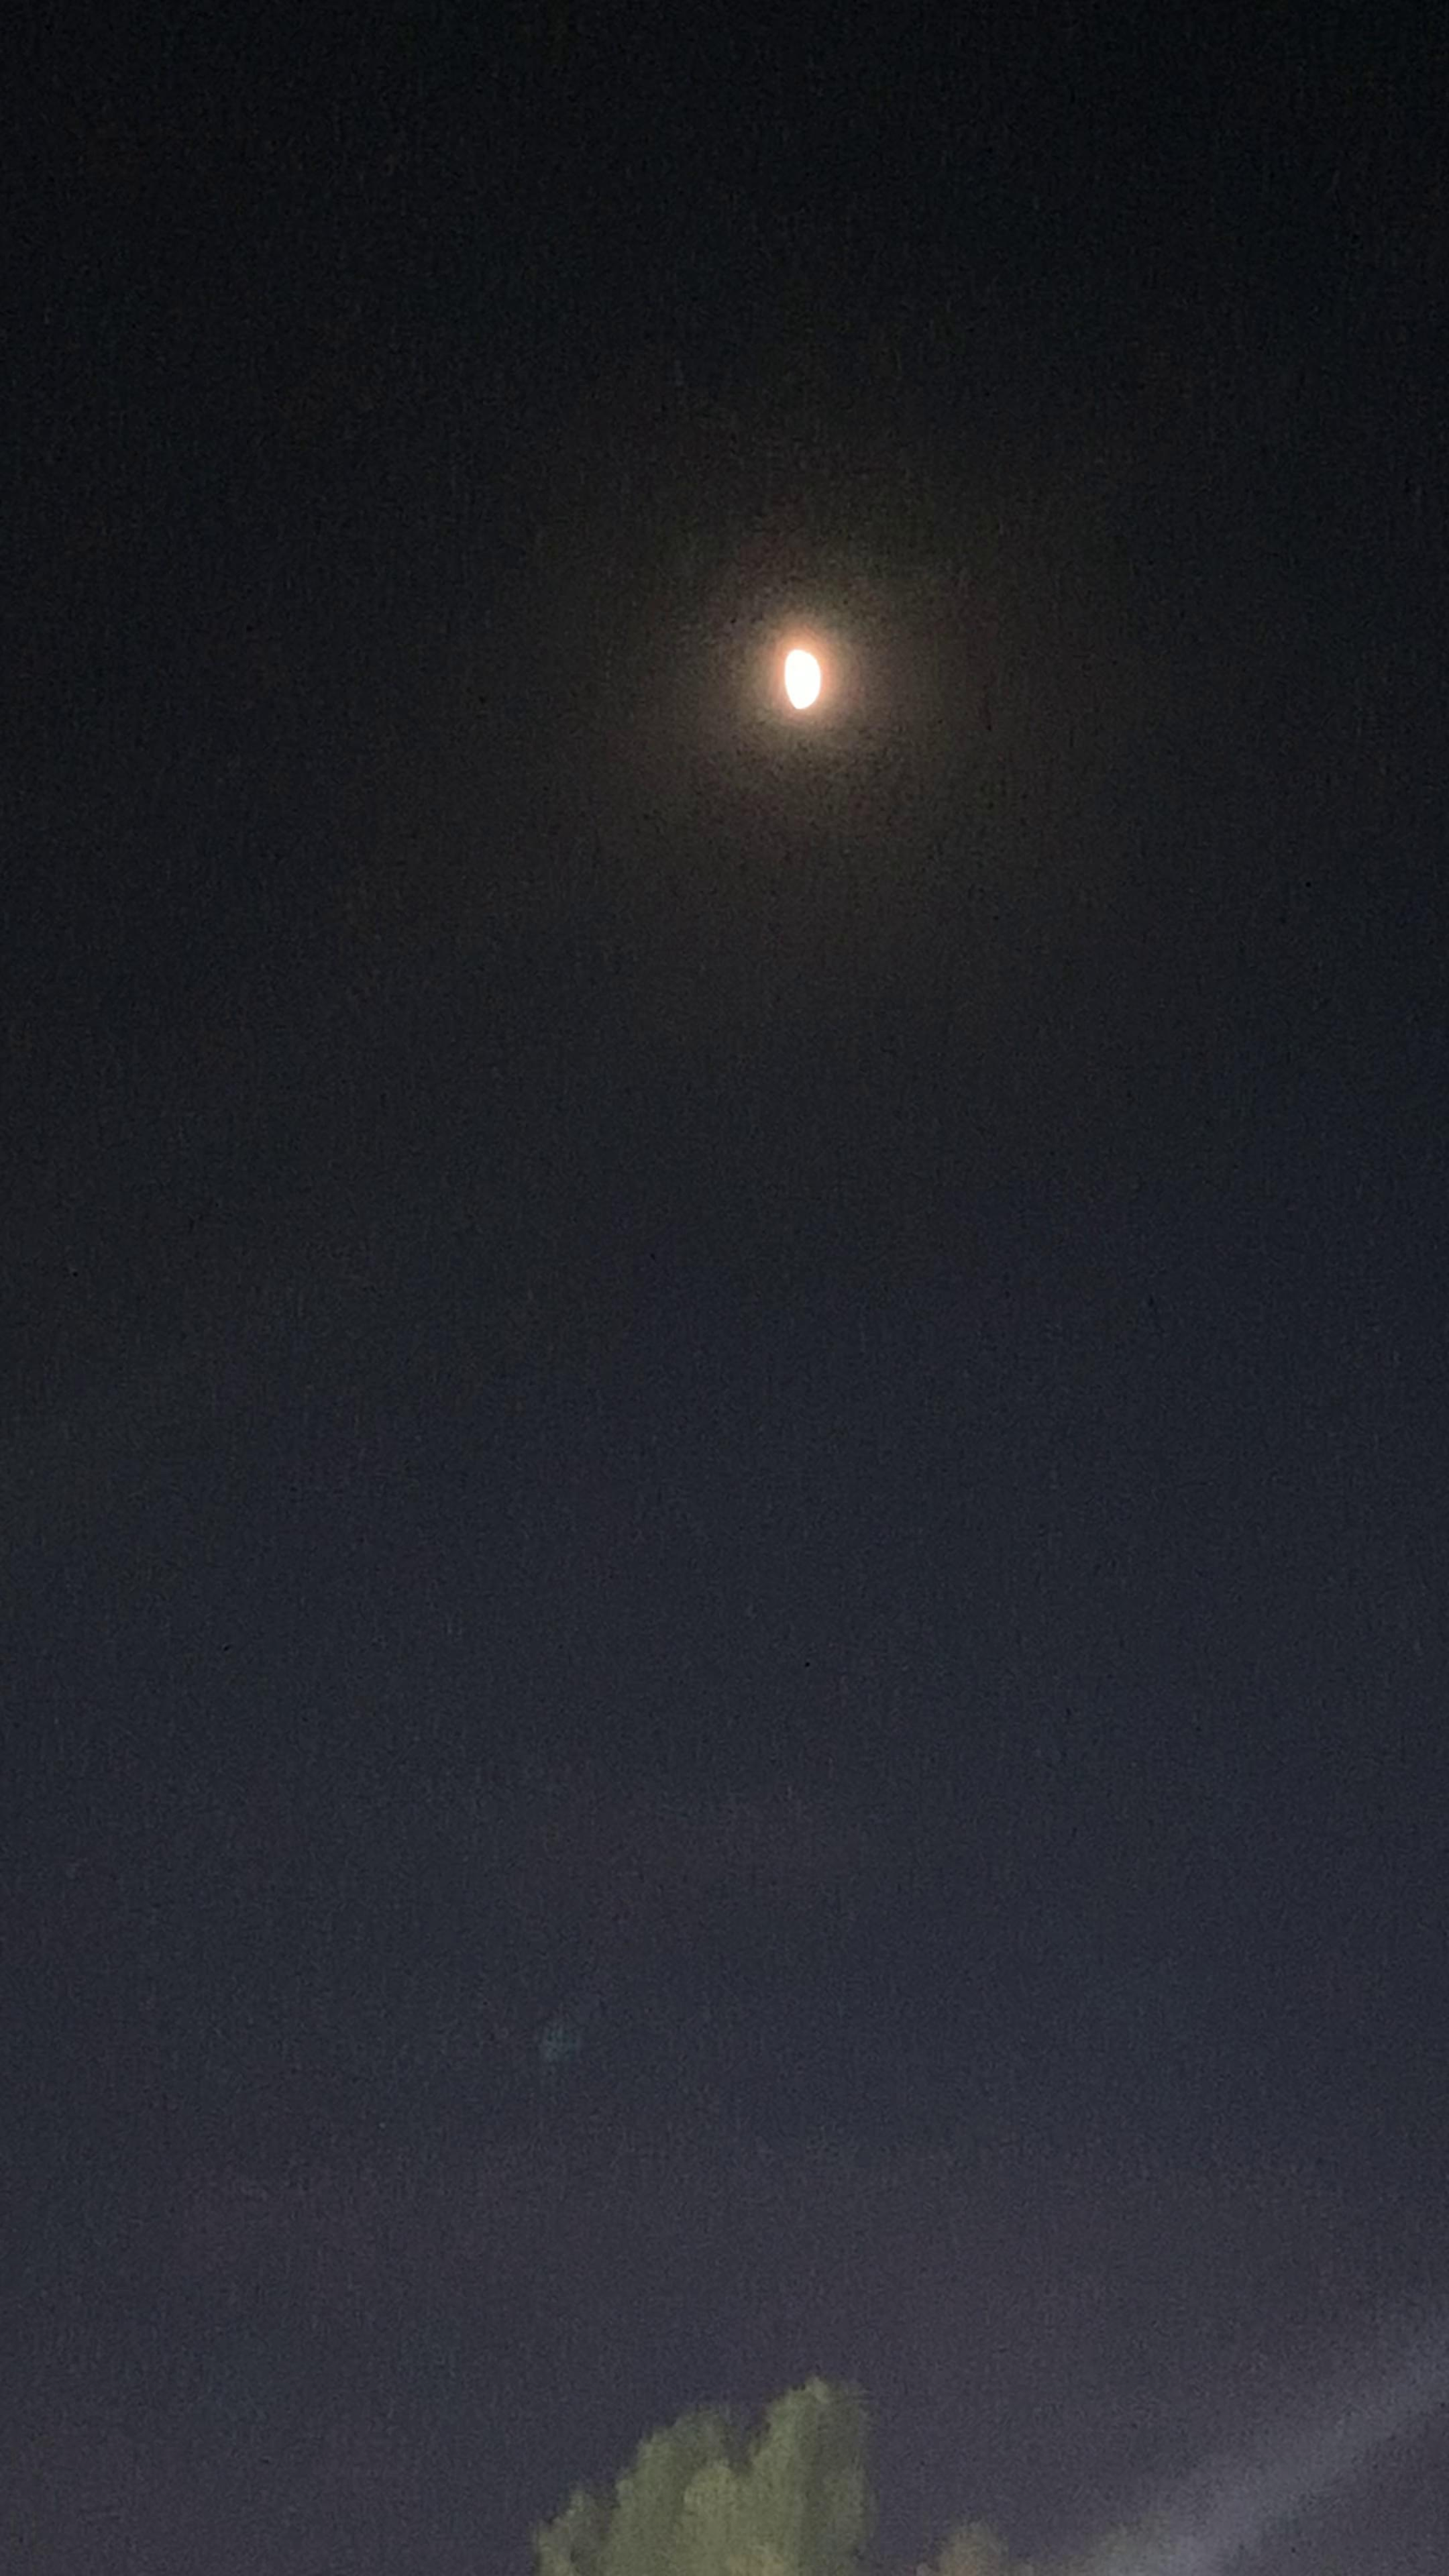moon: (717, 603, 878, 750)
